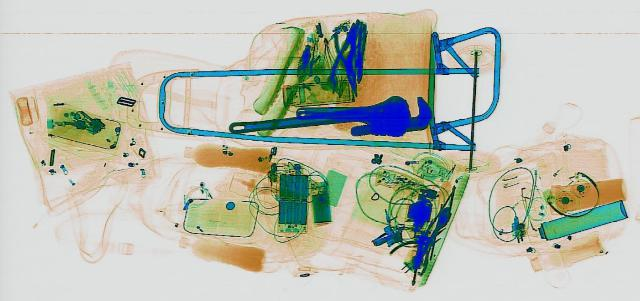Pliers: (329, 29, 366, 95)
Wrench: (219, 94, 419, 143)
